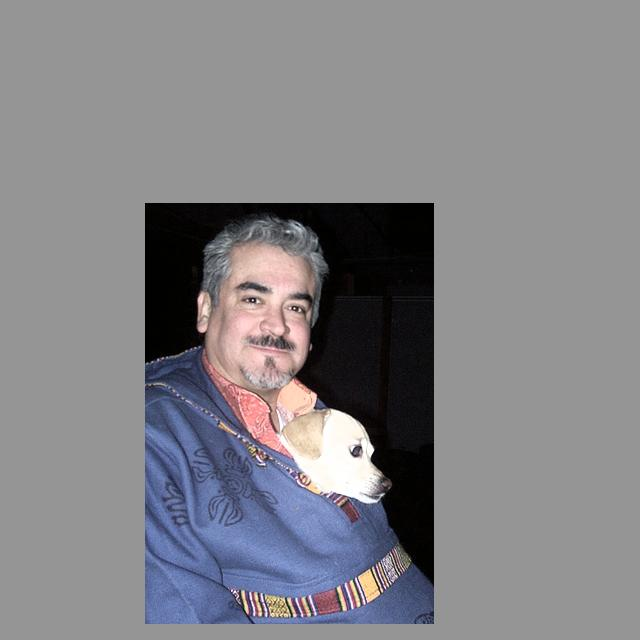dog: (275, 405, 395, 515)
person: (146, 213, 428, 622)
